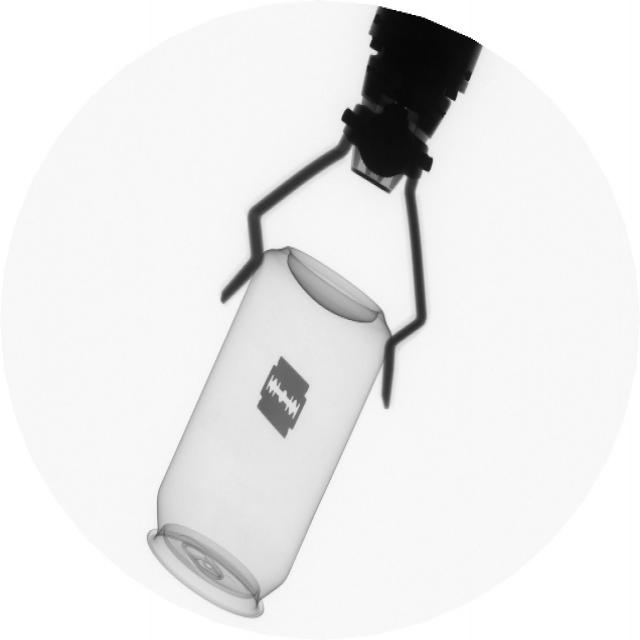BLADE: (257, 350, 316, 447)
